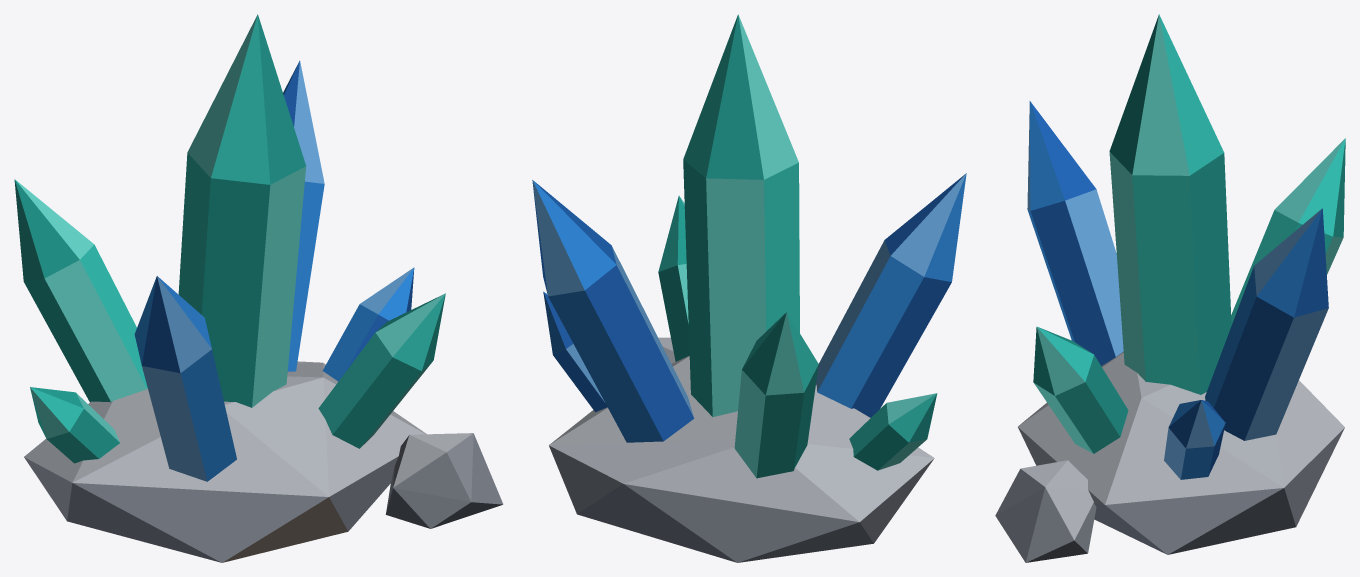
Rendered from crystal_l.glb.
3 renders of one model, left to right at view 1: azimuth 30°, elevation 25°; view 2: azimuth 150°, elevation 25°; view 3: azimuth 270°, elevation 25°, orthographic. The views are drawn at different scales.
Parts seen in each view (by area): view 1: Crystal_glow, Body; view 2: Crystal_glow, Body; view 3: Crystal_glow, Body.
Part boxes in pixels (x1,y1,x2,y2): Crystal_glow: [14, 14, 445, 481]; Body: [24, 361, 503, 562]; Crystal_glow: [532, 14, 966, 478]; Body: [549, 337, 934, 562]; Crystal_glow: [1027, 14, 1345, 479]; Body: [995, 351, 1344, 562].
Size of the model in its own units: 2.97 by 3.47 by 2.35.
